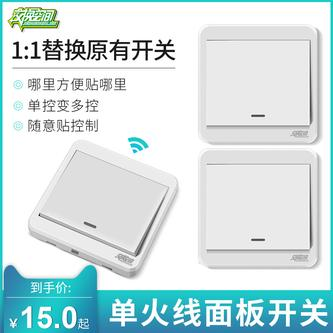switch: (207, 167, 311, 254), (201, 41, 302, 127), (67, 152, 145, 263)
